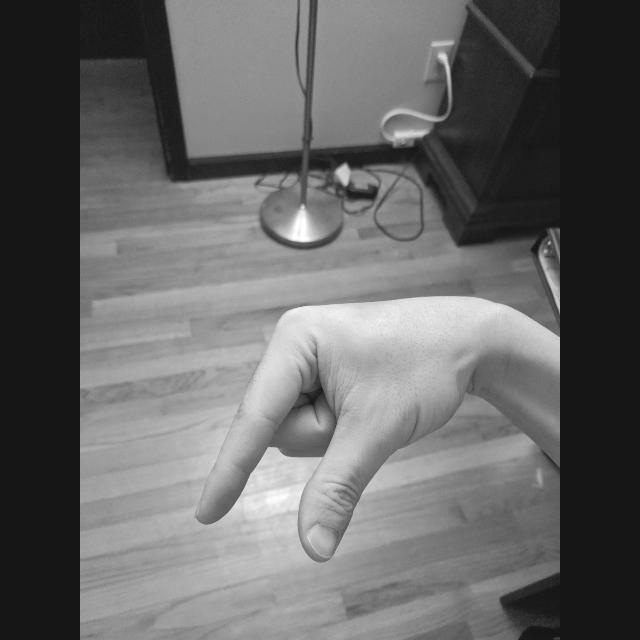Q: (190, 292, 482, 568)
